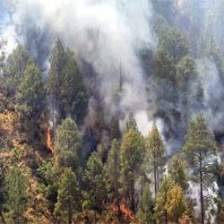fire: (115, 200, 134, 219), (44, 128, 57, 155)
smoke: (2, 1, 200, 122)
